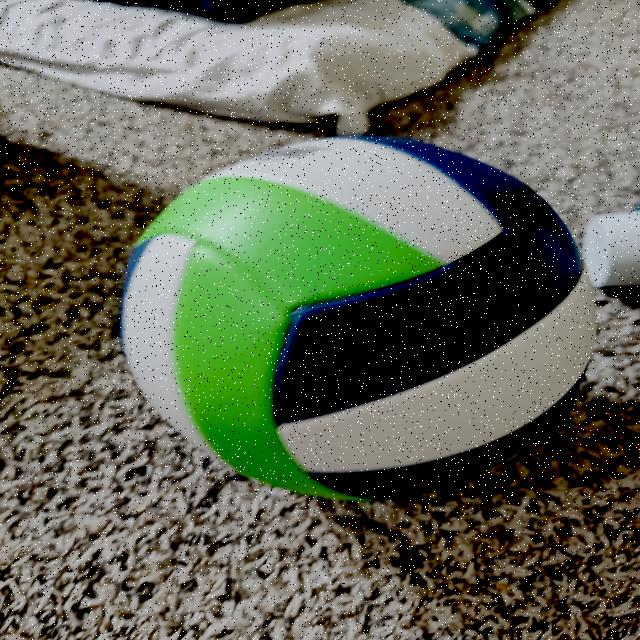ball: (134, 132, 596, 504)
